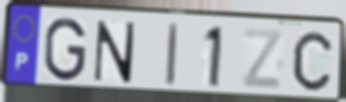1: (201, 24, 225, 89)
C: (291, 30, 334, 94)
G: (42, 16, 88, 83)
I: (164, 21, 181, 89)
N: (91, 18, 138, 85)
Z: (241, 26, 286, 92)
